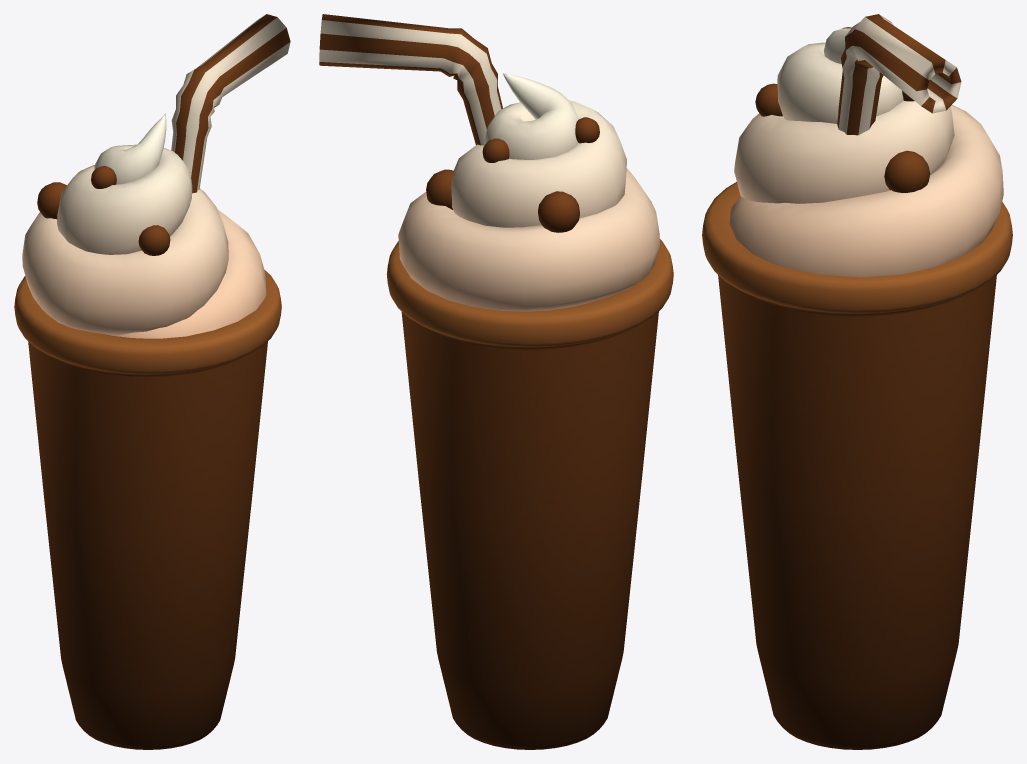
The model's file is Cup_02.fbx.
3 renders of one model, left to right at view 1: azimuth 30°, elevation 25°; view 2: azimuth 150°, elevation 25°; view 3: azimuth 270°, elevation 25°, orthographic. The views are drawn at different scales.
Parts seen in each view (by area): view 1: Cup_02, Cup_02_Top; view 2: Cup_02, Cup_02_Top; view 3: Cup_02, Cup_02_Top.
Part boxes in pixels (<box>): Cup_02: <box>14,14,290,749</box>; Cup_02_Top: <box>22,113,266,338</box>; Cup_02: <box>319,14,673,749</box>; Cup_02_Top: <box>398,73,659,311</box>; Cup_02: <box>702,14,1012,749</box>; Cup_02_Top: <box>729,27,1003,277</box>.
Bounding box in the file's own units: 82.94 × 180 × 67.69.
Materials: 2 (2 with a texture image).
